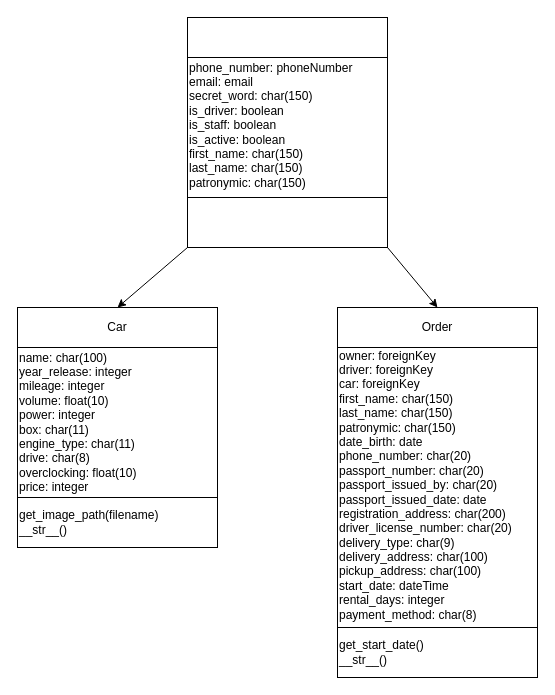
This 555x695 diagram has some shape labels left out. The centre of each missing label's shape, as x and y in pixels:
"get_fullname() __str__()" goes at pixel 287 222.
"User" goes at pixel 287 37.
